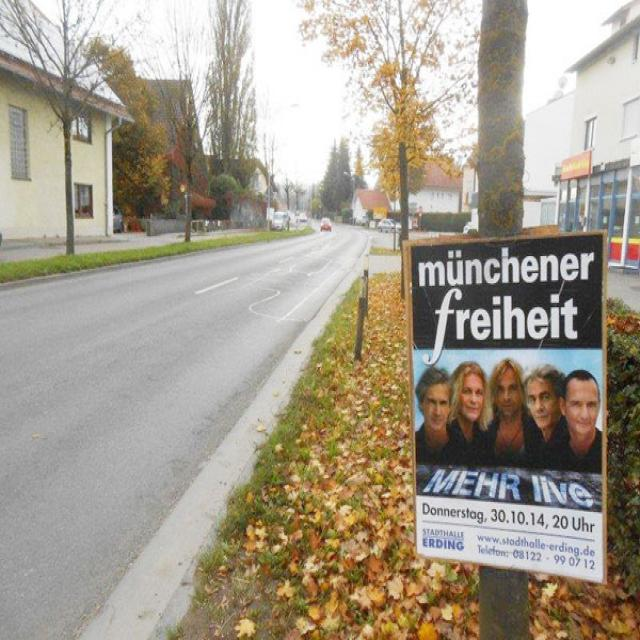Werbetafel frei: (406, 232, 606, 586)
